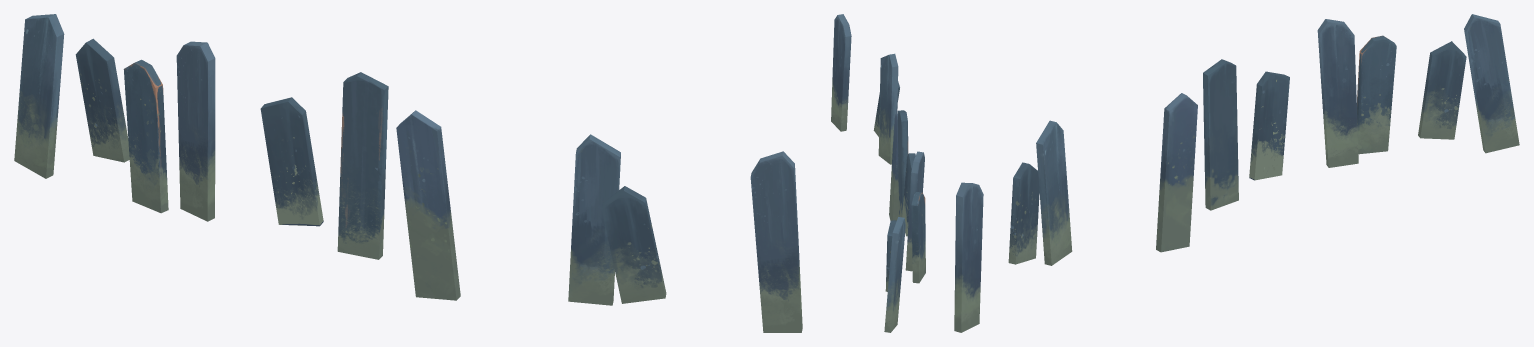
Rendered from Forest_House_Fence_01.glb.
The picture shows the model from 3 angles, left to right: view 1: azimuth 30°, elevation 25°; view 2: azimuth 150°, elevation 25°; view 3: azimuth 270°, elevation 25°; orthographic projection. The views are drawn at different scales.
Visible parts, largest first — view 1: FenceRight; view 2: FenceRight; view 3: FenceRight.
Boxes of the visible parts, x1=… form: FenceRight: x1=14, y1=14, x2=802, y2=332; FenceRight: x1=831, y1=14, x2=925, y2=332; FenceRight: x1=954, y1=14, x2=1519, y2=332.
Size of the model in its own units: 0.0207 by 0.00973 by 0.0284.
Materials: 1 (1 with a texture image).
